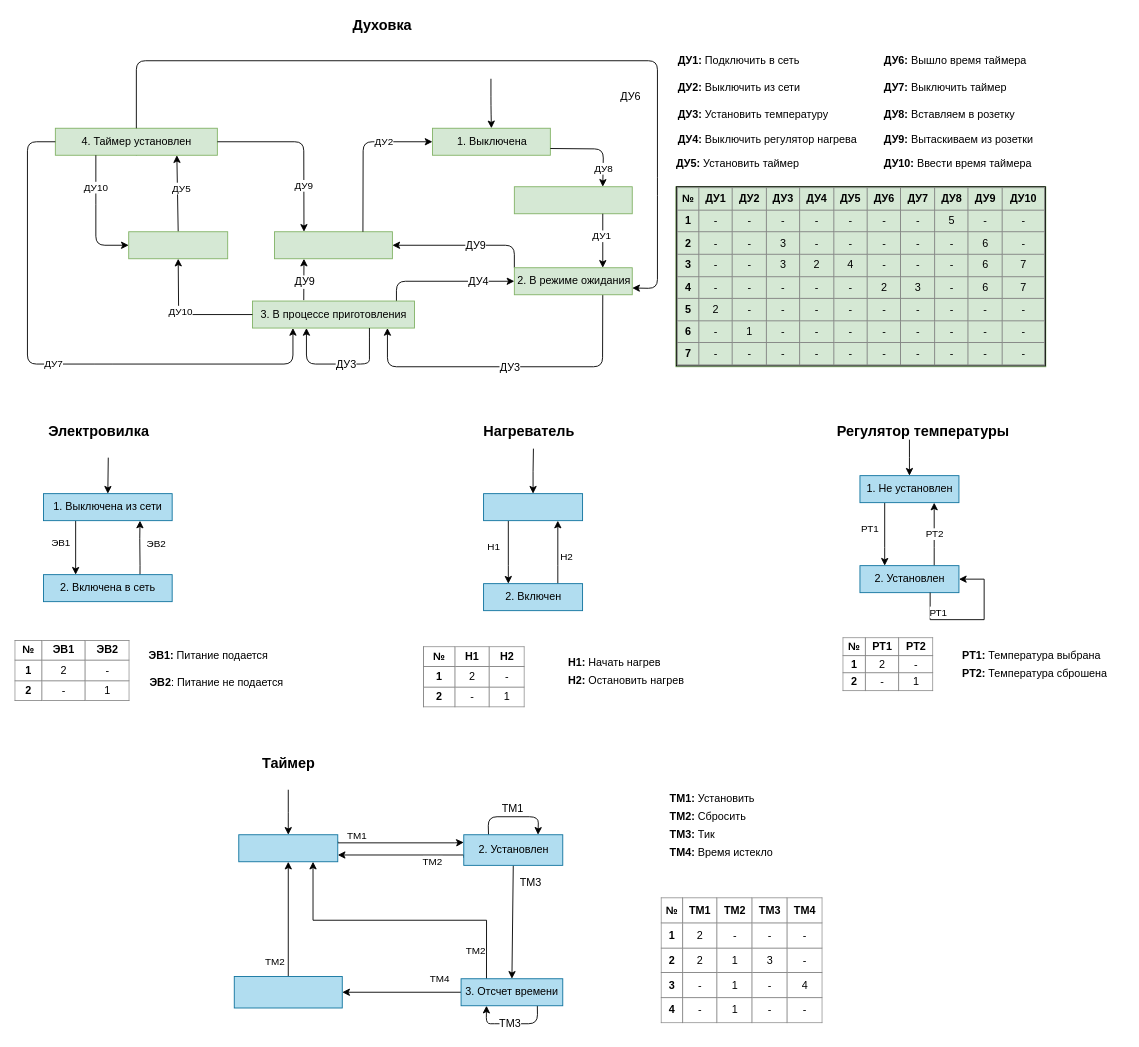
The diagram is 1139 pixels wide and 1047 high, and some of its shapes have lost their labels. Each missing label, with the centre of its shape:
"1. Выключен" goes at point (533, 507).
"1. Сброшен" goes at point (288, 848).
"4. Подача сигнала" goes at point (287, 992).
"5. Готова включиться" goes at point (572, 200).
"6. Готова выключиться" goes at point (333, 245).
"7. Введено время" goes at point (178, 245).
